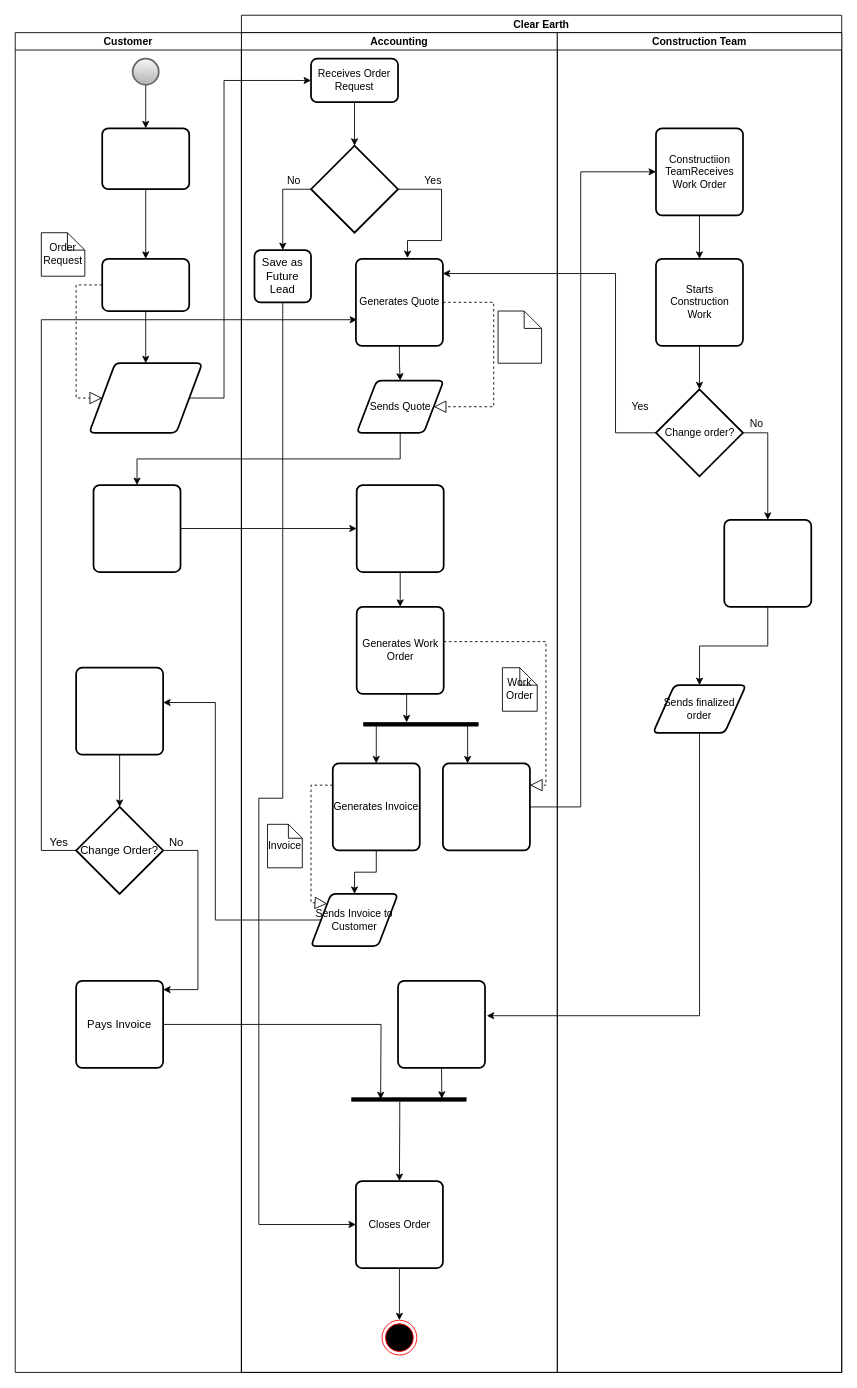
This 857x1388 diagram has some shape labels left out. The shapes that lost their labels are listed below. From the top down, each one's centre as x and y in pixels, then its label:
At (x=145, y=158): "Customer Requires Construction Service".
At (x=354, y=188): "Valid Order?".
At (x=145, y=284): "Writes Order Request".
At (x=519, y=336): "Quote".
At (x=145, y=397): "Sends order request".
At (x=136, y=528): "Approves Quote".
At (x=399, y=528): "Receives Quote Approval".
At (x=767, y=563): "Finishes Construction Work".
At (x=119, y=710): "Receives Invoice".
At (x=486, y=806): "Sends Work Order to Construction Team".
At (x=441, y=1024): "Receives Finalized Order".
